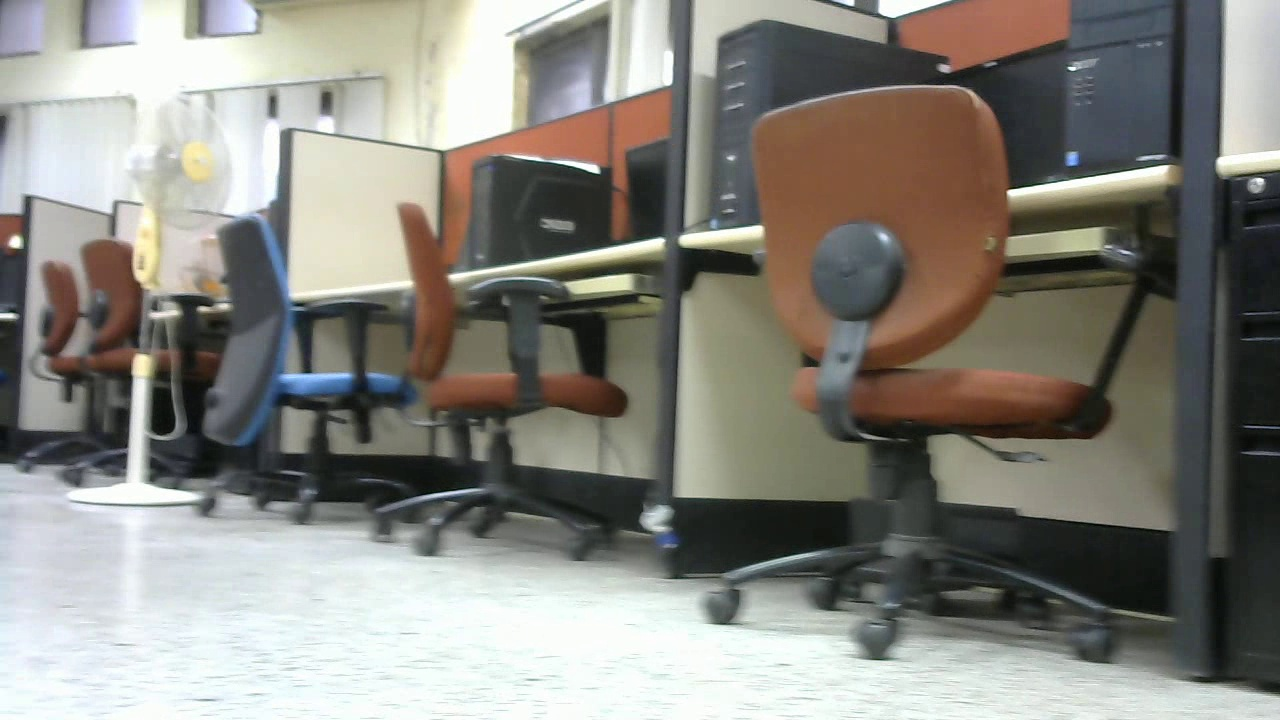chair: (689, 83, 1144, 664), (361, 202, 628, 562), (196, 208, 413, 518), (22, 236, 207, 477)
